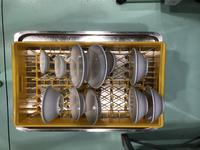Dish: (87, 43, 107, 89), (69, 43, 89, 88), (42, 85, 65, 124), (143, 86, 165, 124), (128, 86, 149, 124), (128, 47, 148, 86), (83, 89, 102, 125), (70, 87, 86, 121), (54, 55, 67, 78), (105, 50, 116, 74), (39, 50, 50, 74)
